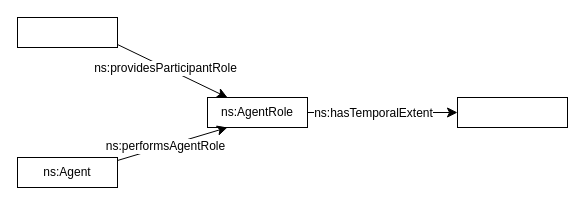
Some shapes in this 585 by 205 pixel diagram are drawn without their labels. Here are the shapes that lost their labels. From the top down, the centre of each, then its label:
(67,32): ns:Event
(512,112): ns:TemporalExtent
